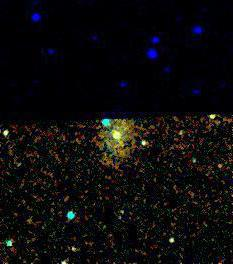star: (204, 154, 233, 184)
